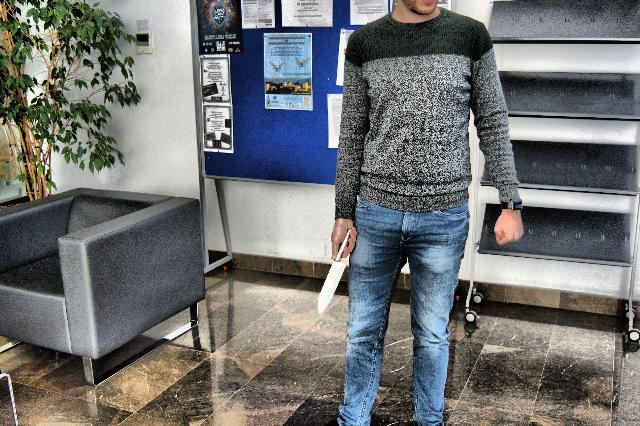knife: (314, 227, 354, 317)
